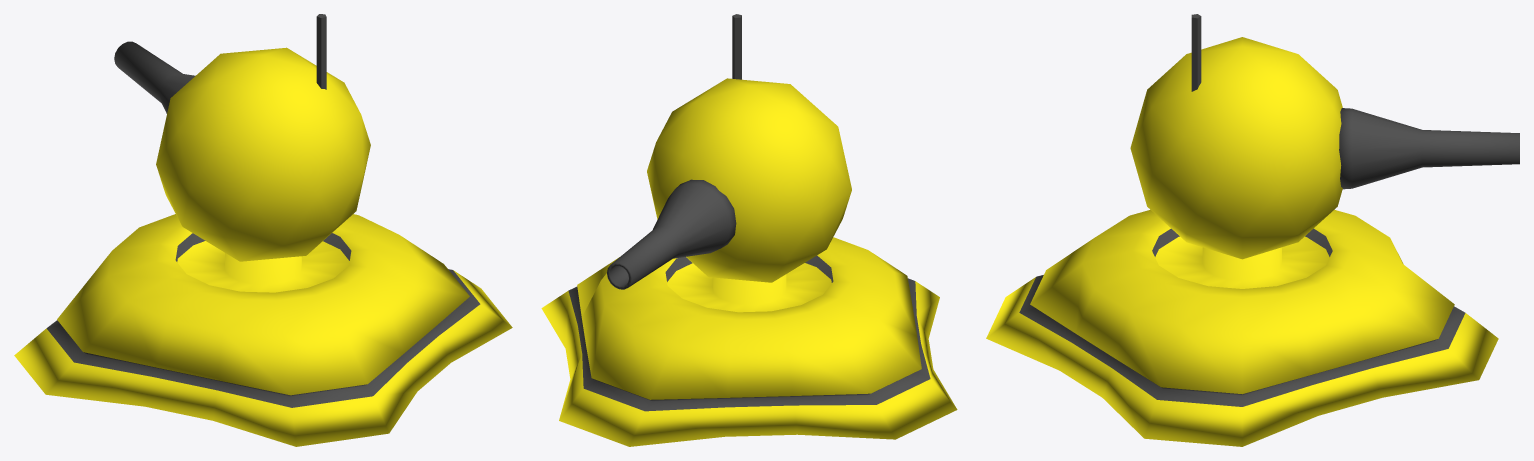
The model's file is turret.glb.
The picture shows the model from 3 angles, left to right: view 1: azimuth 30°, elevation 25°; view 2: azimuth 150°, elevation 25°; view 3: azimuth 270°, elevation 25°; orthographic projection. The views are drawn at different scales.
Parts seen in each view (by area): view 1: Base, Head; view 2: Base, Head; view 3: Base, Head.
Boxes of the visible parts, x1,y1,x2,y2 form: Base: [14, 214, 512, 446]; Head: [114, 14, 370, 261]; Base: [541, 237, 957, 446]; Head: [607, 14, 851, 289]; Base: [986, 209, 1498, 446]; Head: [1130, 14, 1519, 259].
Size of the model in its own units: 4.05 by 2.97 by 4.22.
